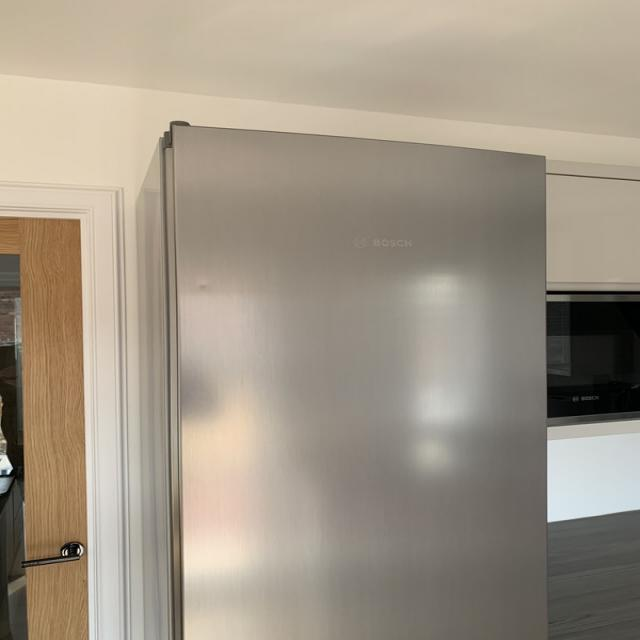dents: (179, 264, 236, 318)
